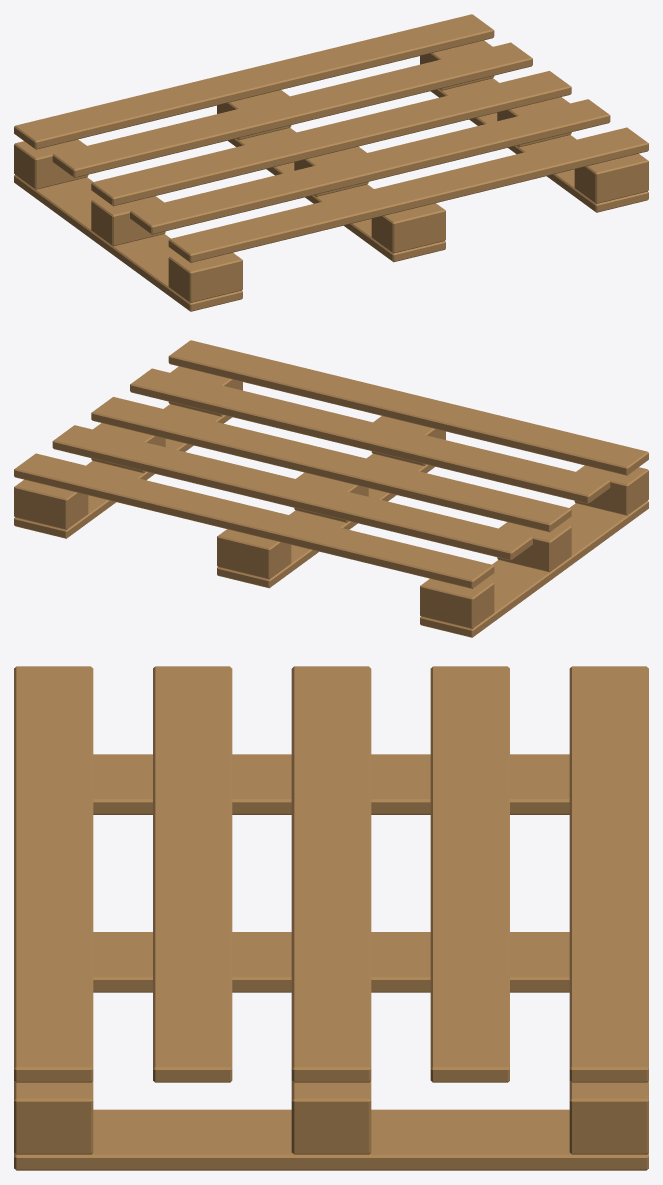
File: pallet.glb
3 views of the same model, one above another, from view 1: azimuth 30°, elevation 25°; view 2: azimuth 150°, elevation 25°; view 3: azimuth 270°, elevation 25° (orthographic). The views are drawn at different scales.
Parts seen in each view (by area): view 1: Pallet; view 2: Pallet; view 3: Pallet.
Boxes of the visible parts, x1,y1,x2,y2 form: Pallet: [14, 14, 648, 311]; Pallet: [14, 340, 648, 637]; Pallet: [14, 666, 648, 1170].
Size of the model in its own units: 1.2 by 0.144 by 0.8.
